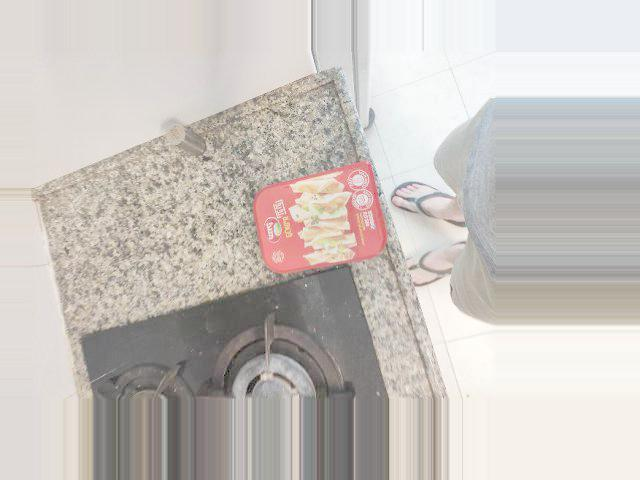cheese: (111, 180, 274, 294)
